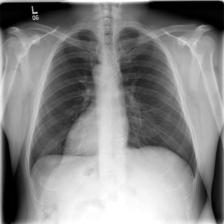normal: (25, 22, 208, 213)
